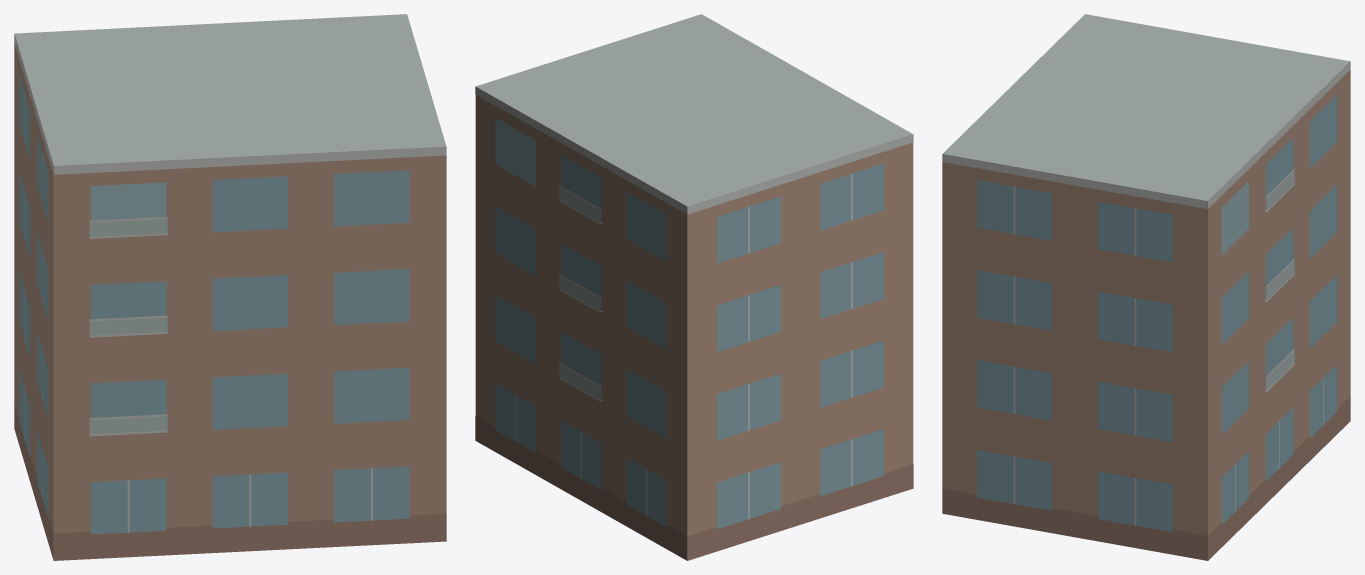
Rendered from survey-upis-32599357.glb.
The picture shows the model from 3 angles, left to right: view 1: azimuth 30°, elevation 25°; view 2: azimuth 150°, elevation 25°; view 3: azimuth 270°, elevation 25°; orthographic projection. The views are drawn at different scales.
Parts seen in each view (by area): view 1: survey-upis-32599357.tmp; view 2: survey-upis-32599357.tmp; view 3: survey-upis-32599357.tmp.
Boxes of the visible parts, x1,y1,x2,y2 form: survey-upis-32599357.tmp: (14, 14, 446, 560); survey-upis-32599357.tmp: (475, 14, 913, 560); survey-upis-32599357.tmp: (942, 14, 1350, 560).
Size of the model in its own units: 12.17 by 10.9 by 11.22.
